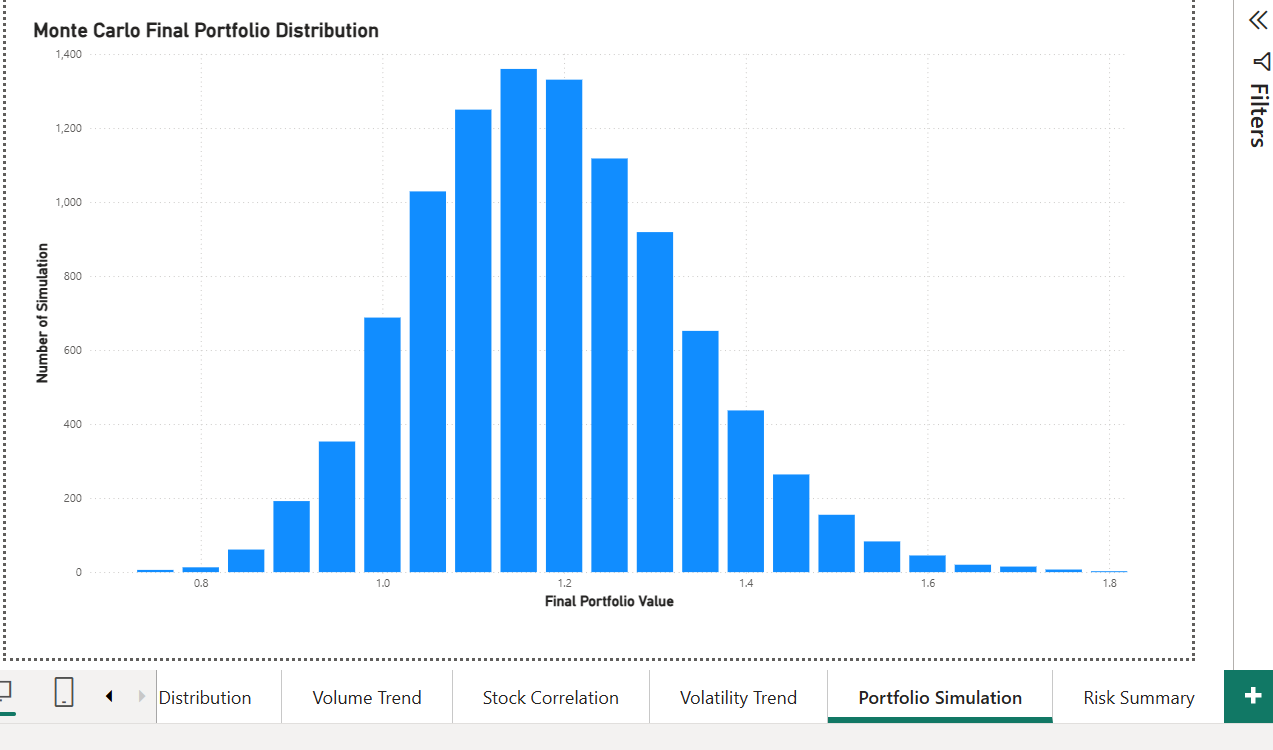

The page's visual inventory and layout, read from the dashboard file:
{"tool":"powerbi","page":{"name":"Portfolio Simulation","canvas":[1280,720],"ordinal":6},"visuals":[{"type":"clusteredColumnChart","title":"Monte Carlo Final Portfolio Distribution","fields":{"Category":["simulation_results.Final_Portfolio_Value (bins)"],"Y":["CountNonNull(simulation_results.Simulation)"]},"box":[24.3,29.1,1191.8,642.8],"z":0}]}

Visuals, with their boxes on the page's 1280x720 design canvas (x1, y1, x2, y2). These are canvas units, not pixel positions in the 1273x750 screenshot, which may show the page scaled, cropped or inside an application window:
"Monte Carlo Final Portfolio Distribution" clusteredColumnChart: region(24, 29, 1216, 672)
